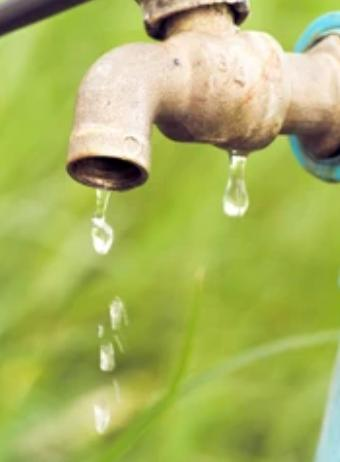water drop: (222, 143, 250, 218), (90, 185, 114, 258), (92, 397, 113, 435), (110, 298, 128, 331), (99, 342, 116, 372)
